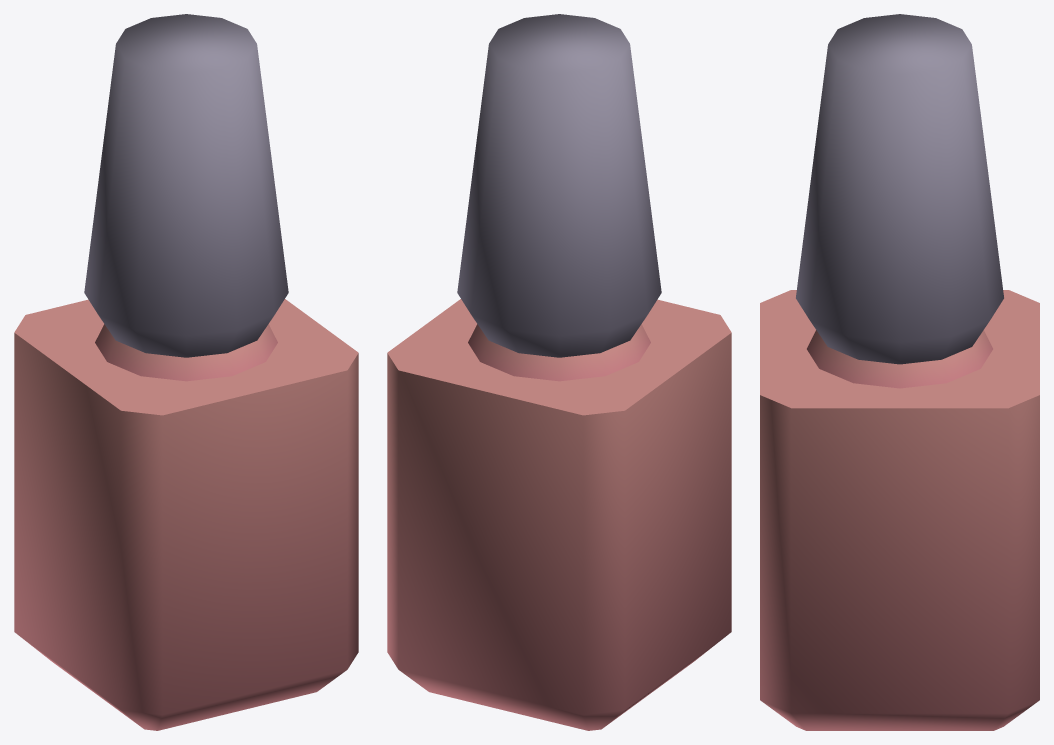
Rendered from makeup-nail-polish.glb.
3 views of the same model, side by side, from view 1: azimuth 30°, elevation 25°; view 2: azimuth 150°, elevation 25°; view 3: azimuth 270°, elevation 25° (orthographic).
Visible parts, largest first — view 1: makeup-nail-polish; view 2: makeup-nail-polish; view 3: makeup-nail-polish.
Part boxes in pixels (x1,y1,x2,y2): makeup-nail-polish: (14,14,358,730); makeup-nail-polish: (387,14,731,730); makeup-nail-polish: (760,14,1039,730).
Size of the model in its own units: 0.0769 by 0.195 by 0.0769.
